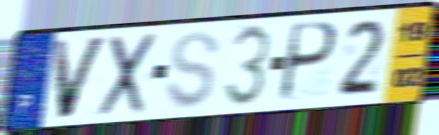2: (332, 18, 390, 99)
3: (221, 23, 273, 110)
P: (275, 20, 340, 105)
S: (163, 29, 222, 111)
V: (49, 34, 111, 122)
X: (95, 30, 160, 120)
